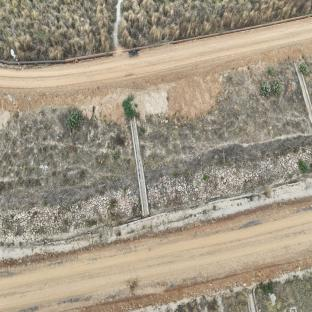rock_toe: (147, 143, 312, 210), (0, 184, 139, 248)
slope_drain: (130, 117, 149, 217), (294, 62, 312, 123)
toe_drain: (1, 175, 312, 253)
vegetation: (65, 107, 85, 132)
